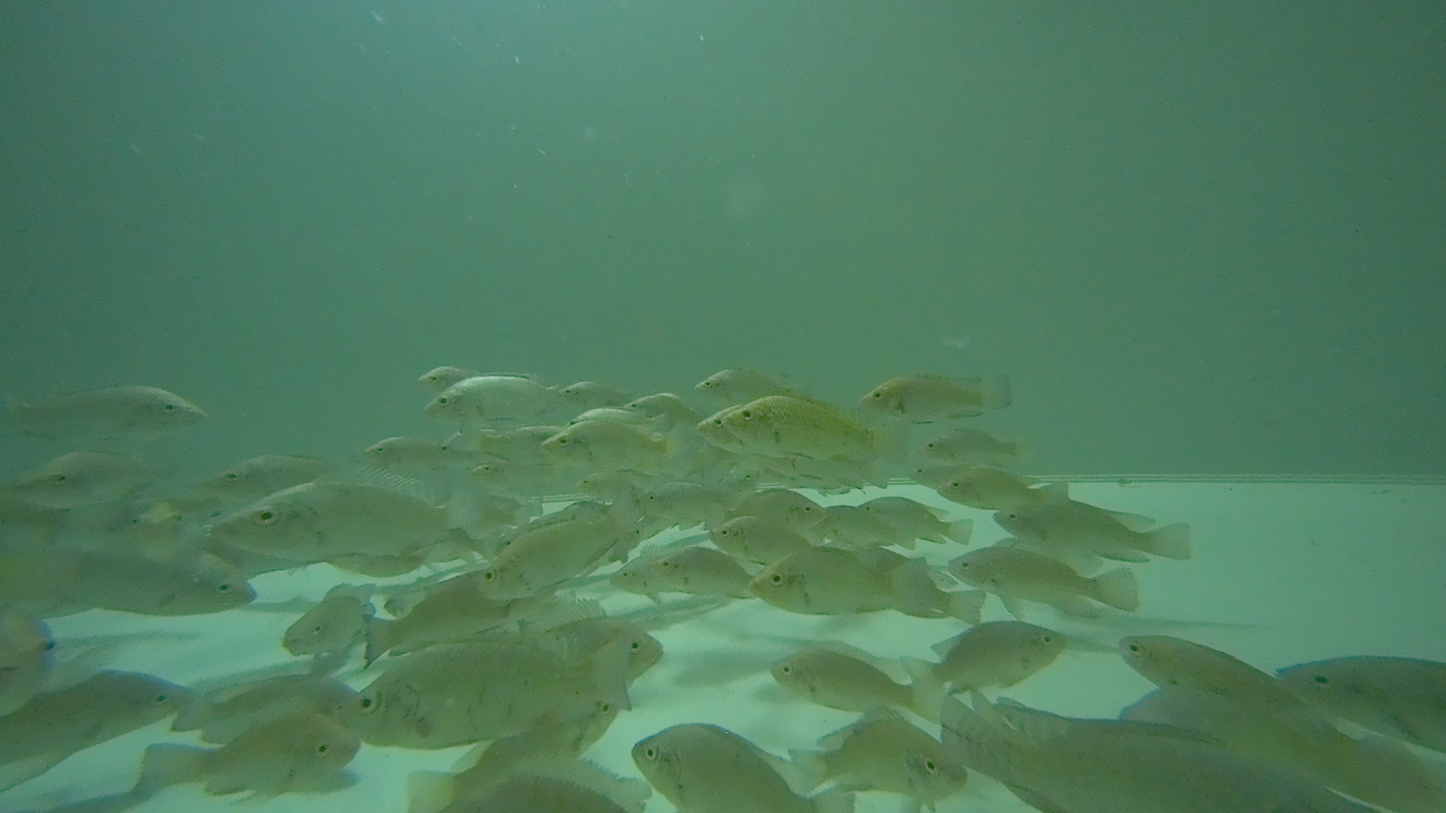fish: (746, 544, 938, 615), (541, 420, 699, 472), (424, 373, 576, 424), (860, 375, 1013, 422)
